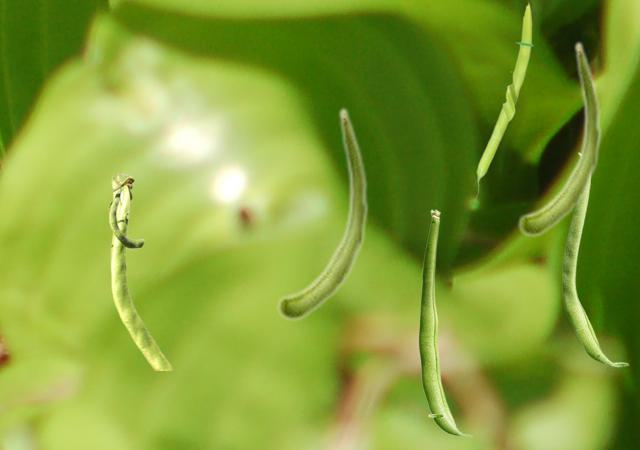french_bean: (276, 106, 368, 320), (517, 40, 601, 236), (562, 152, 628, 366), (108, 173, 172, 369), (418, 209, 472, 436), (474, 0, 533, 200)
